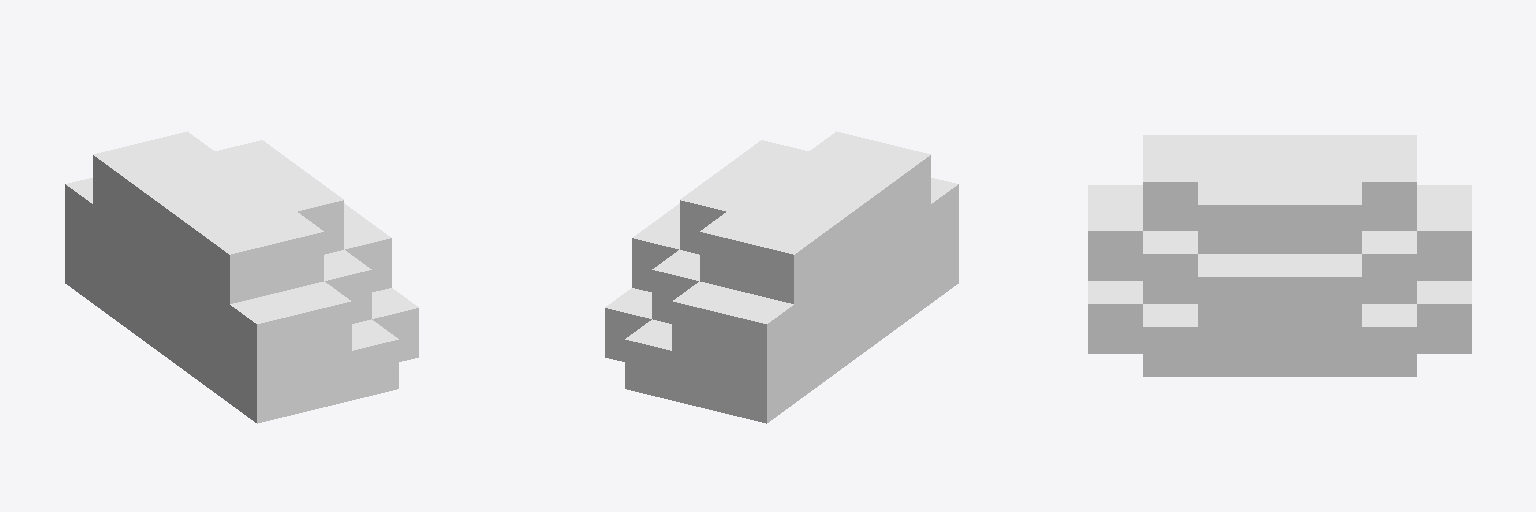
File: shoulder.obj
The picture shows the model from 3 angles: view 1: azimuth 30°, elevation 25°; view 2: azimuth 150°, elevation 25°; view 3: azimuth 270°, elevation 25°; orthographic projection.
Visible parts, largest first — view 1: object 1; view 2: object 1; view 3: object 1.
Part boxes in pixels (x1,y1,x2,y2): object 1: (65, 131, 418, 423); object 1: (605, 131, 958, 423); object 1: (1088, 135, 1471, 376).
Size of the model in its own units: 0.4 by 0.3 by 0.7.